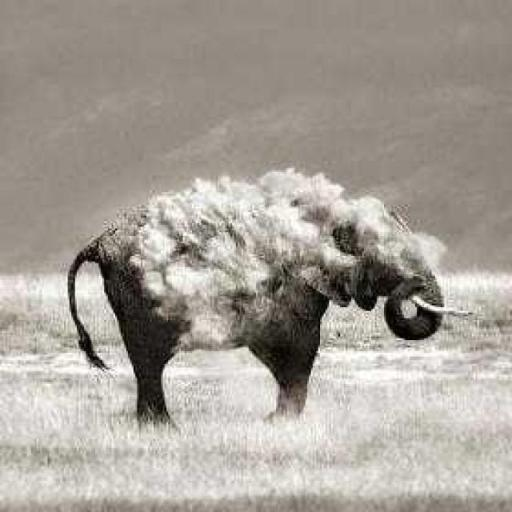Elephant: (66, 166, 474, 430)
